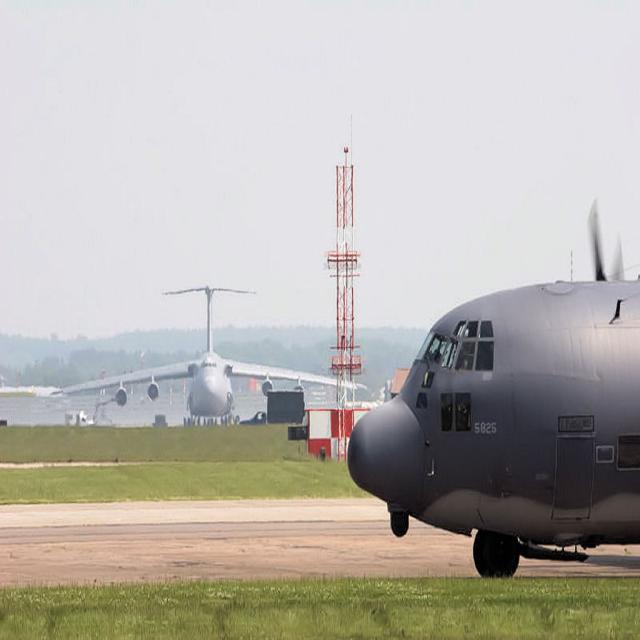MIL_Plane: (347, 0, 640, 258), (50, 284, 368, 426)
